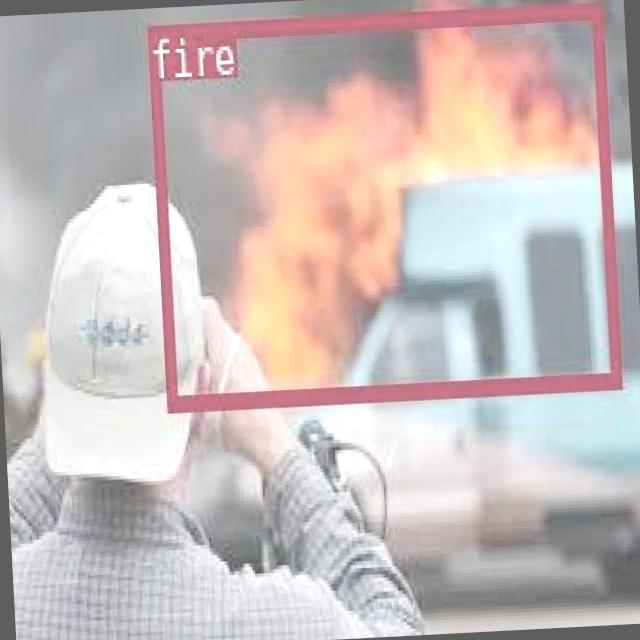fire: (145, 0, 620, 410)
